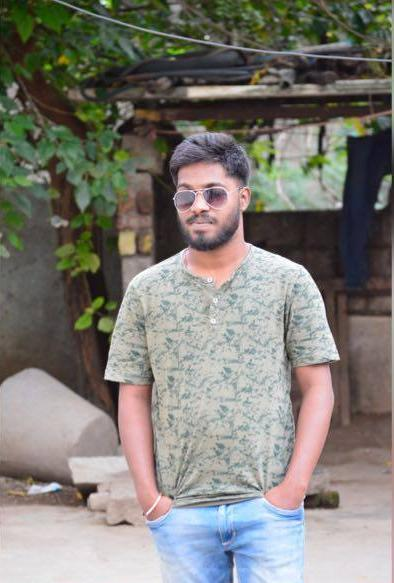jeans: (146, 494, 303, 583)
sunglasses: (167, 187, 231, 210)
